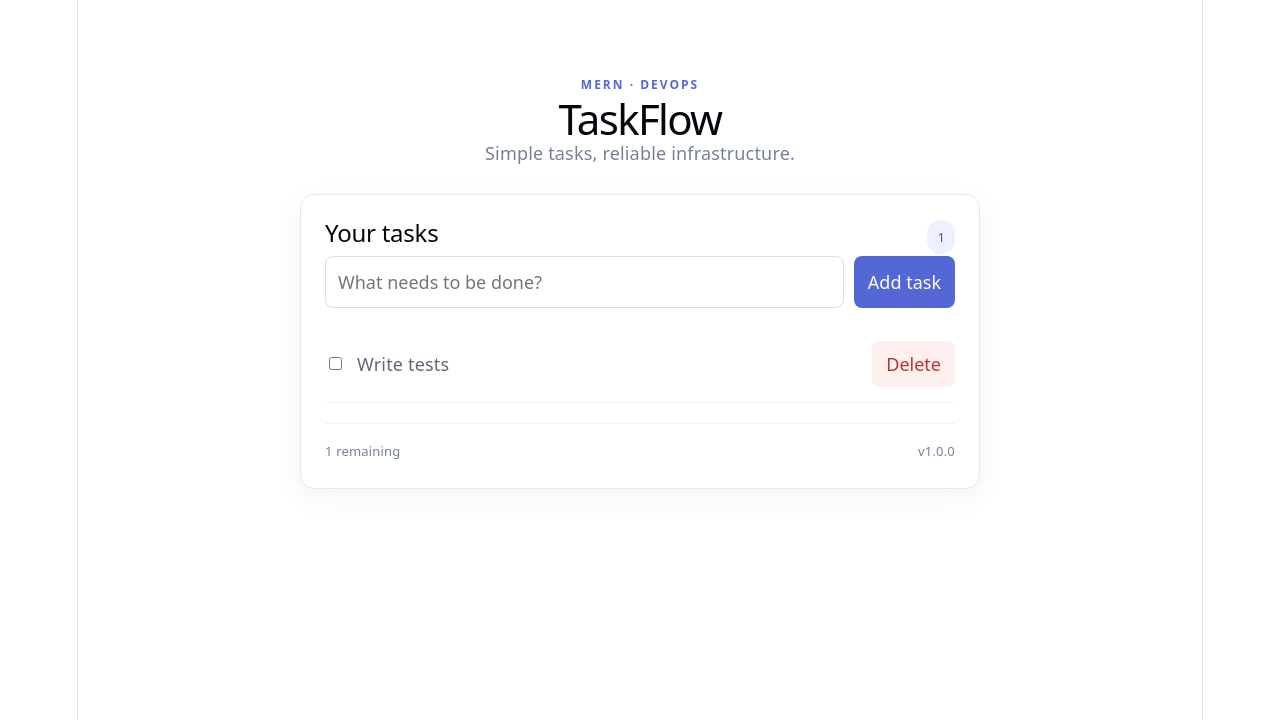
Scenario: TaskFlow application › deletes a task through the API
Click the button with aria-label "Delete Write tests": coordinates (914, 364) x1=872 y1=341 x2=955 y2=387
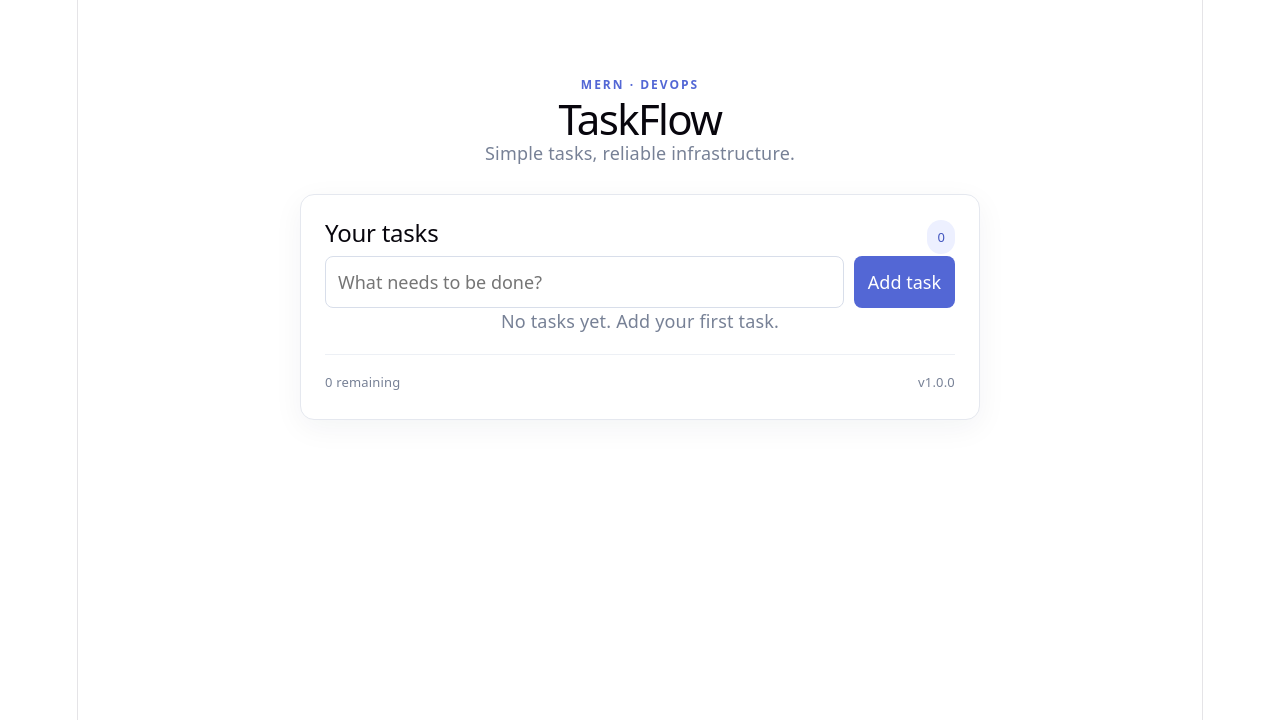
Expected: the text "No tasks yet. Add your first task." is shown, x1=501 y1=309 x2=779 y2=333
